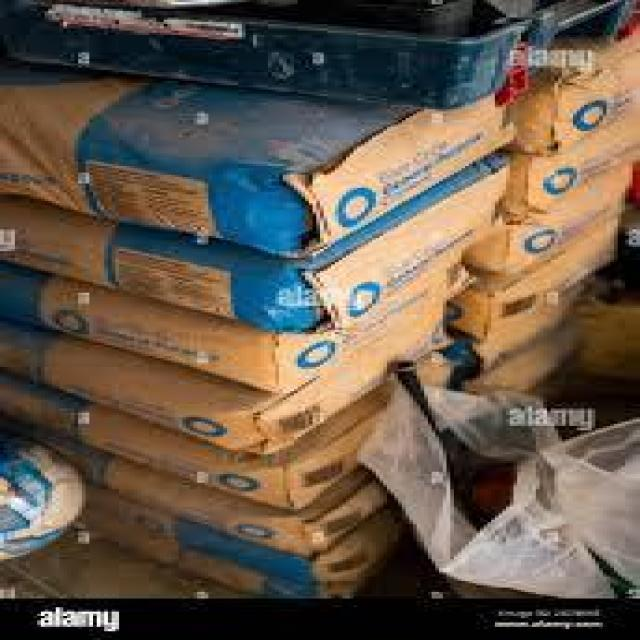gunny_bag: (1, 70, 524, 255), (0, 154, 519, 333), (1, 270, 449, 393), (79, 389, 395, 512), (40, 342, 389, 453), (103, 465, 393, 559), (446, 221, 620, 342), (460, 163, 634, 279), (510, 47, 637, 155), (510, 122, 626, 219), (461, 328, 576, 400), (0, 375, 79, 436)
